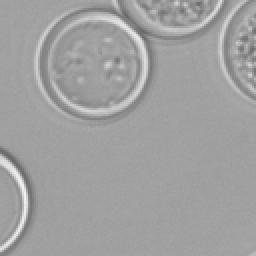picoshell: (34, 10, 150, 118), (118, 0, 224, 36), (218, 0, 254, 100), (0, 148, 30, 254)
